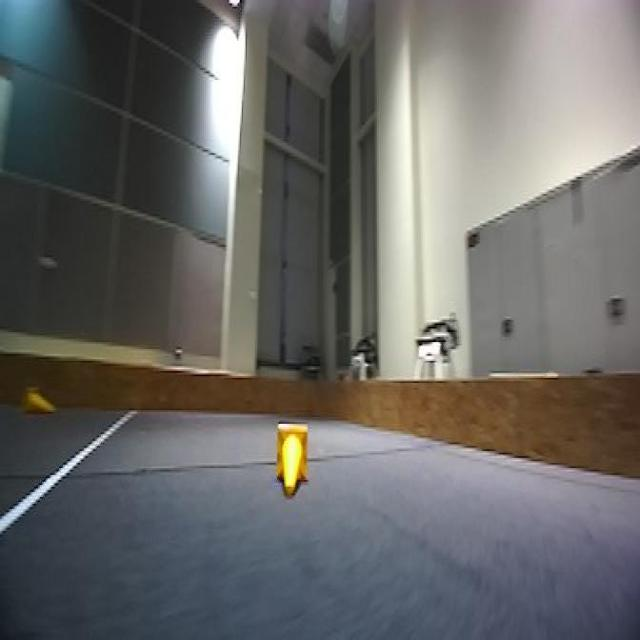frc_cone: (276, 420, 310, 500), (22, 386, 57, 419)
